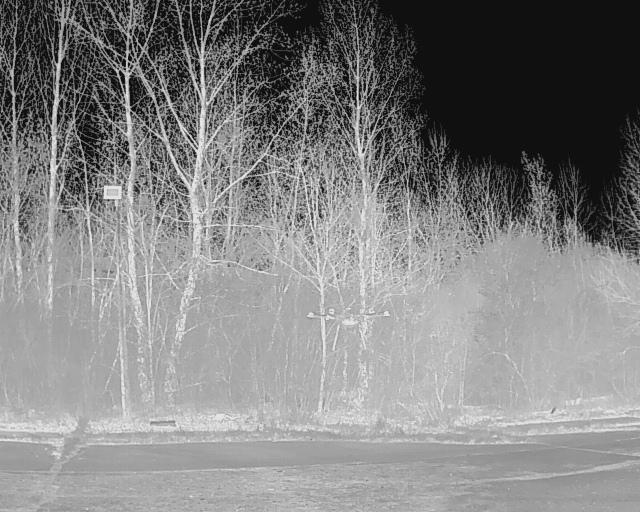drone: (303, 291, 394, 367)
